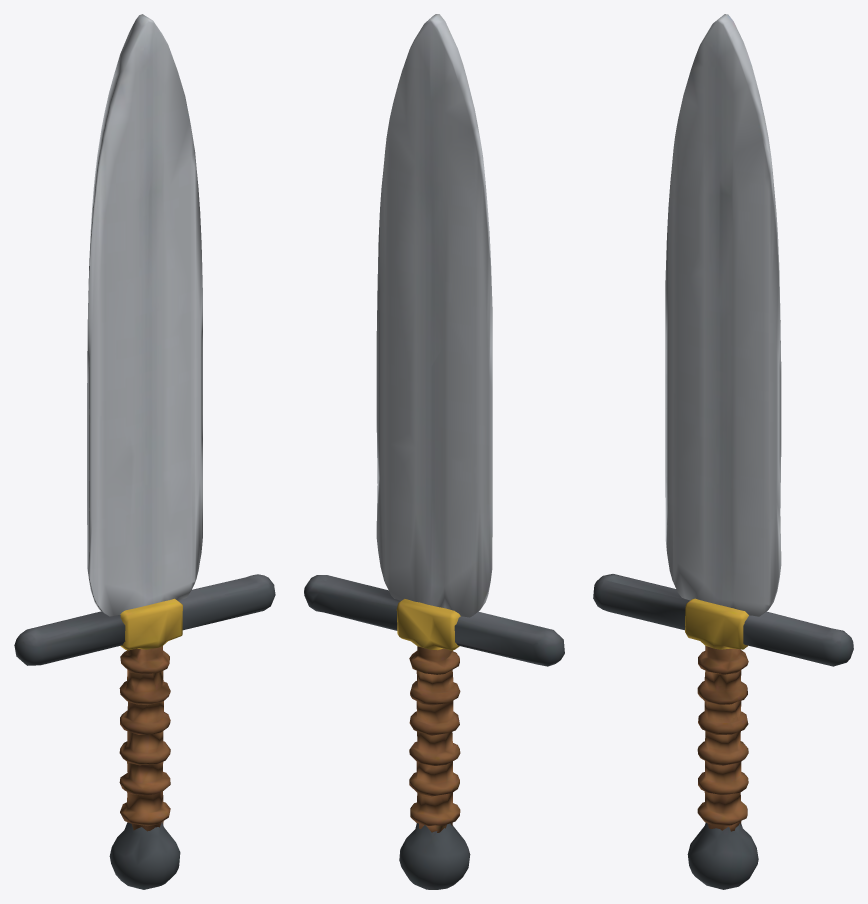
Rendered from greatsword.glb.
3 renders of one model, left to right at view 1: azimuth 30°, elevation 25°; view 2: azimuth 150°, elevation 25°; view 3: azimuth 330°, elevation 25°, orthographic.
Parts seen in each view (by area): view 1: blade; view 2: blade; view 3: blade.
Part boxes in pixels (<box>): blade: <box>14,14,275,889</box>; blade: <box>304,14,564,889</box>; blade: <box>593,14,853,889</box>.
Bounding box in the file's own units: 0.3981 × 1.29 × 0.0945.
1 material, 1 textured.
